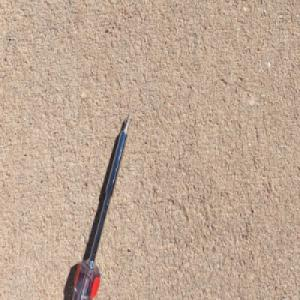Screwdriver: (68, 112, 133, 300)
